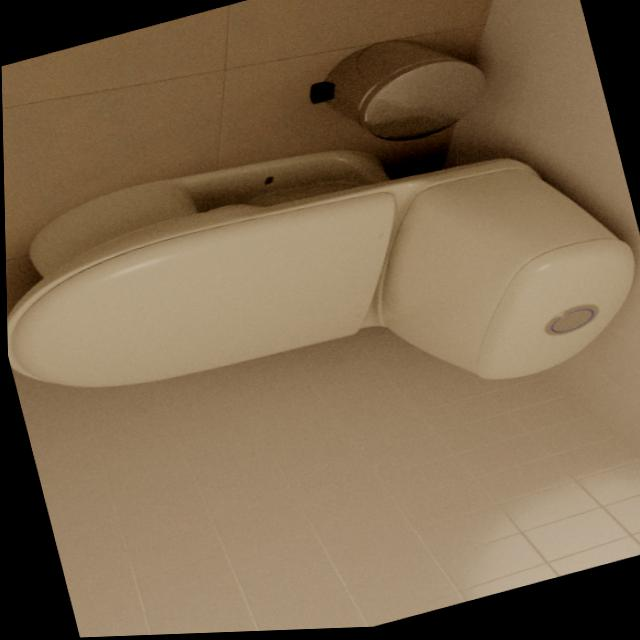toilet: (1, 66, 640, 508)
